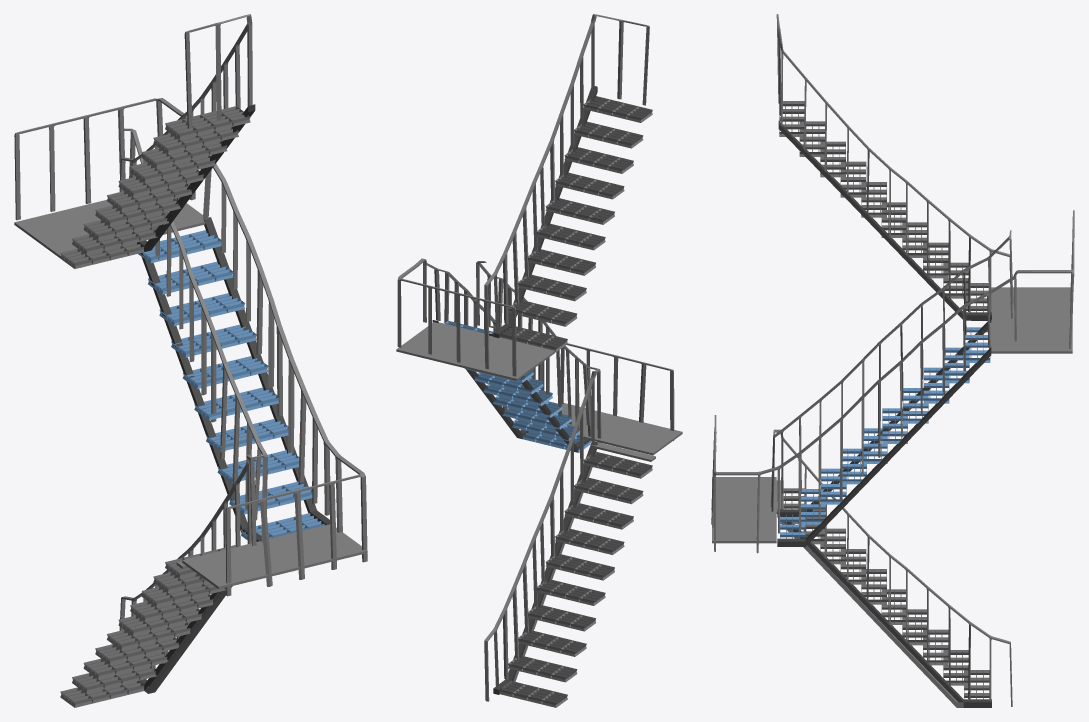
File: staircase.fbx
3 renders of one model, left to right at view 1: azimuth 30°, elevation 25°; view 2: azimuth 150°, elevation 25°; view 3: azimuth 270°, elevation 25°, orthographic. The views are drawn at different scales.
Parts seen in each view (by area): view 1: Cube.020, Cube.007; view 2: Cube.020, Cube.007; view 3: Cube.020, Cube.007.
Part boxes in pixels (<box>): Cube.020: <box>14,14,367,693</box>; Cube.007: <box>60,106,324,707</box>; Cube.020: <box>396,14,682,701</box>; Cube.007: <box>444,96,652,707</box>; Cube.020: <box>711,14,1074,707</box>; Cube.007: <box>779,101,990,699</box>.
Bounding box in the file's own units: 235 × 1103 × 547.
